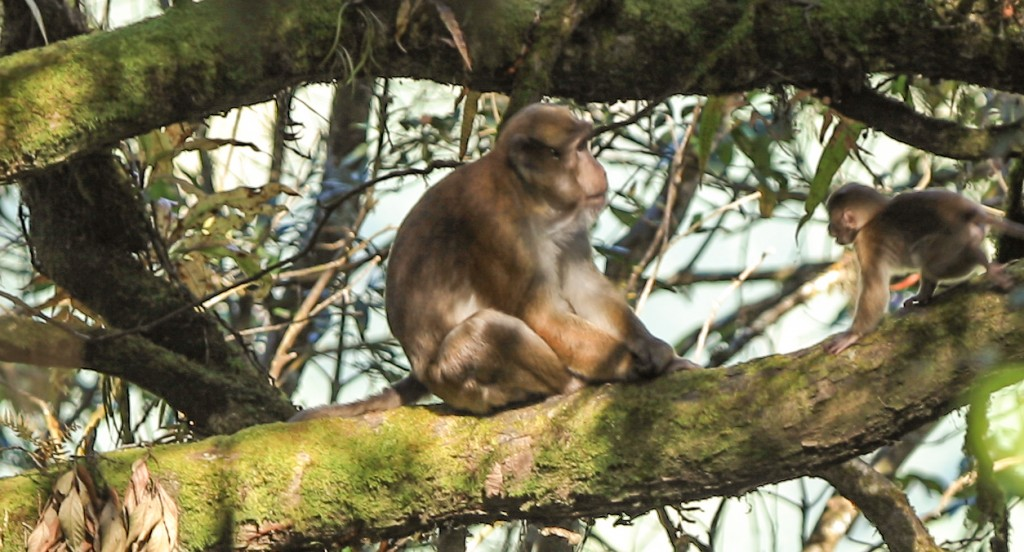monkey: (363, 108, 685, 427), (813, 166, 1014, 366)
